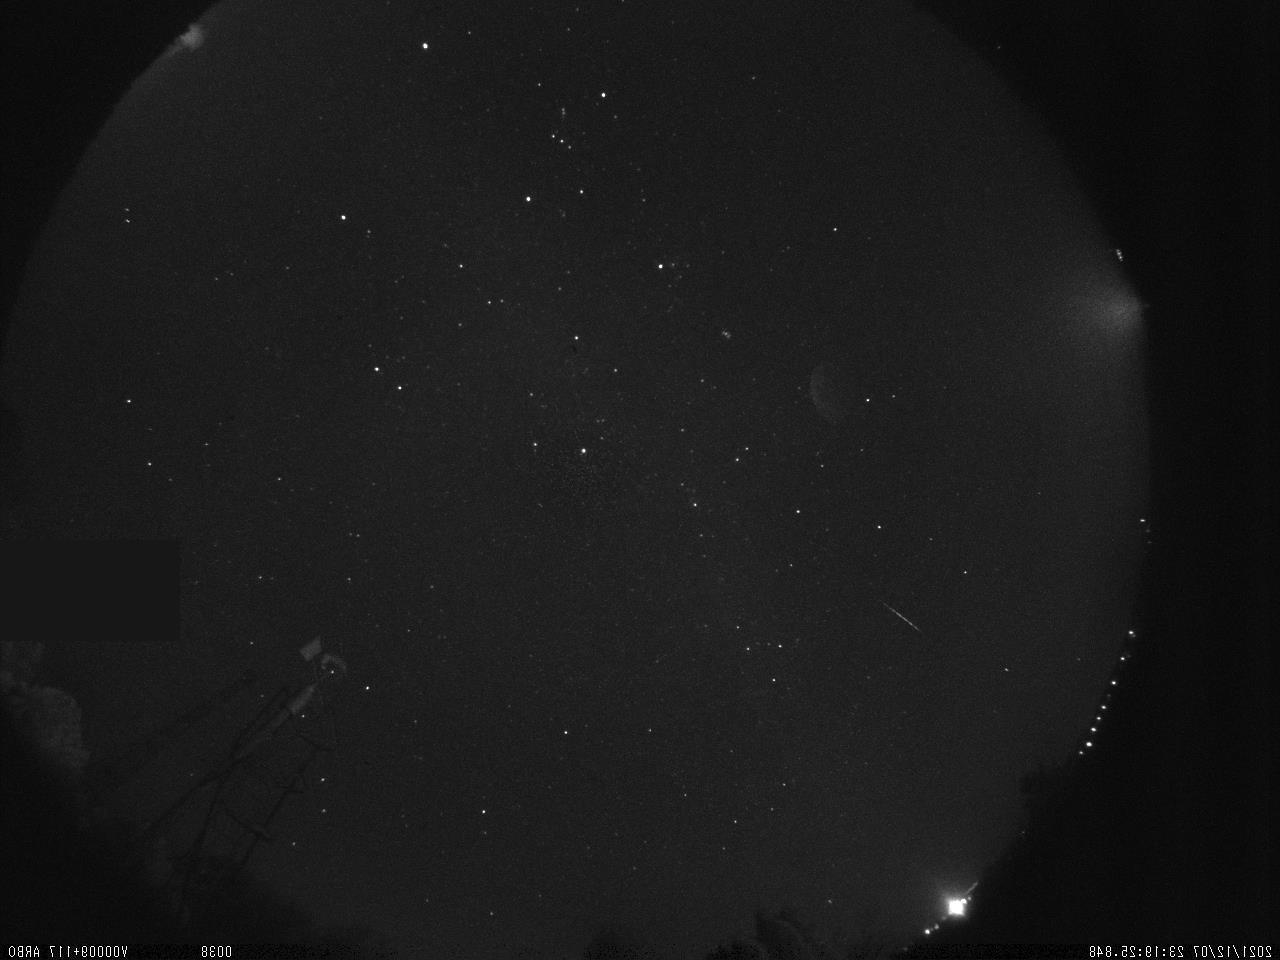meteor: (840, 579, 972, 646)
